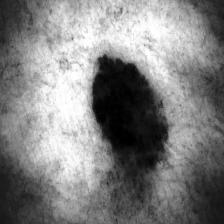Benign Marking or Mole: (90, 50, 172, 167)
